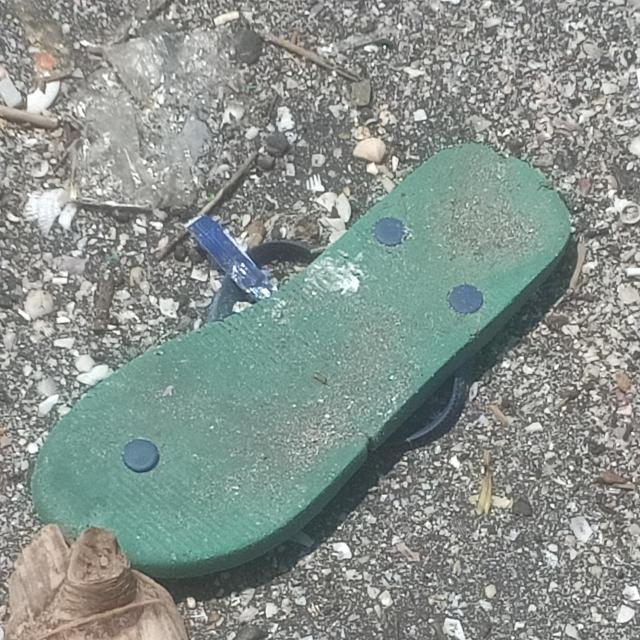rubber_waste: (26, 141, 576, 580)
